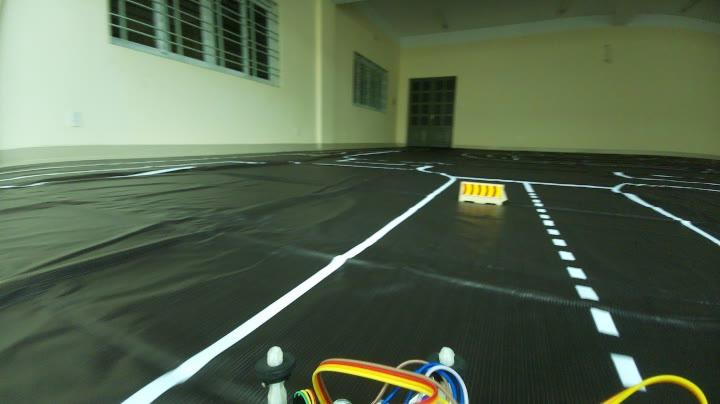roadblock: (456, 174, 509, 210)
